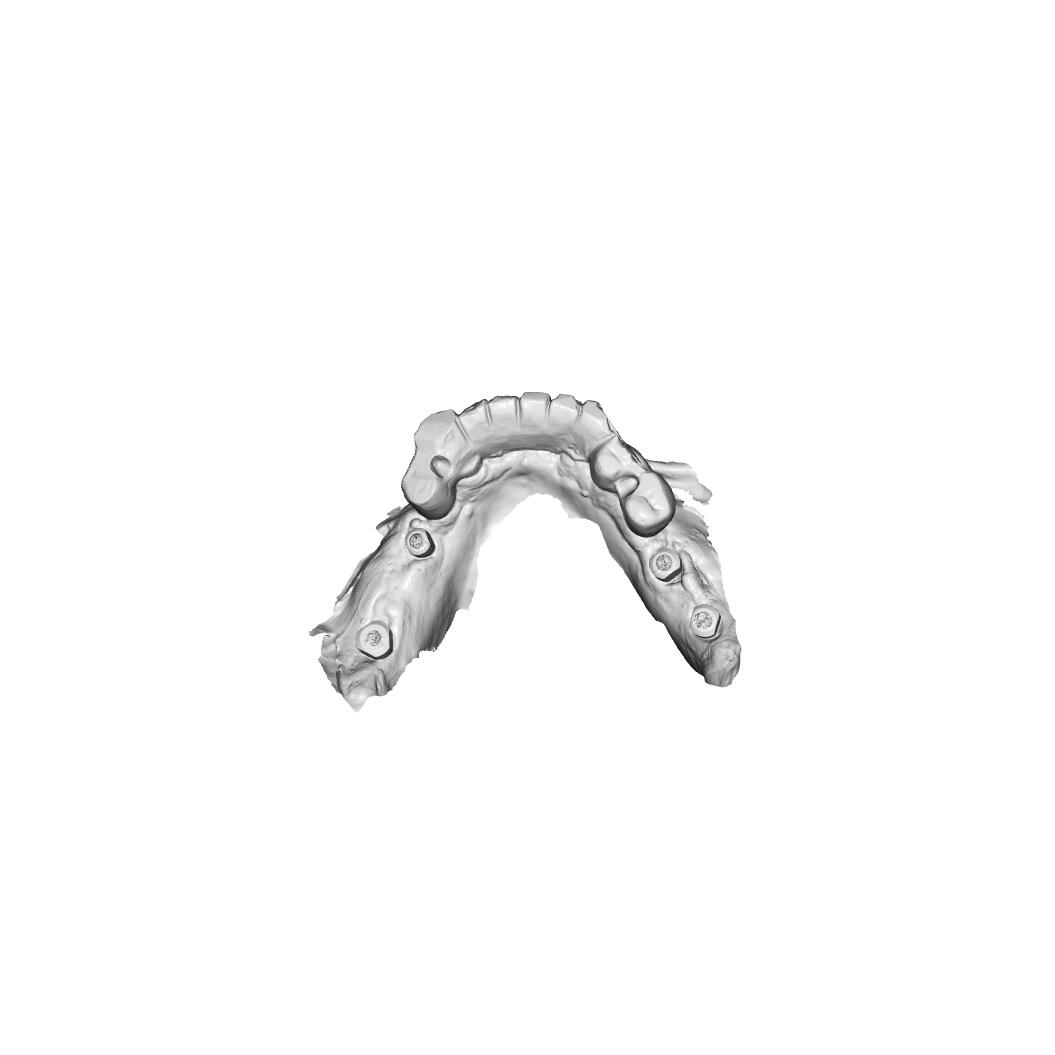canine: (412, 407, 461, 461), (578, 400, 619, 441)
implant: (352, 619, 396, 662), (688, 602, 724, 642), (647, 547, 684, 583), (403, 526, 438, 561)
incisor: (457, 397, 494, 445), (548, 393, 582, 438), (488, 394, 520, 438), (519, 390, 552, 431)
premolar: (621, 470, 678, 539), (398, 456, 457, 521), (588, 433, 651, 493)
